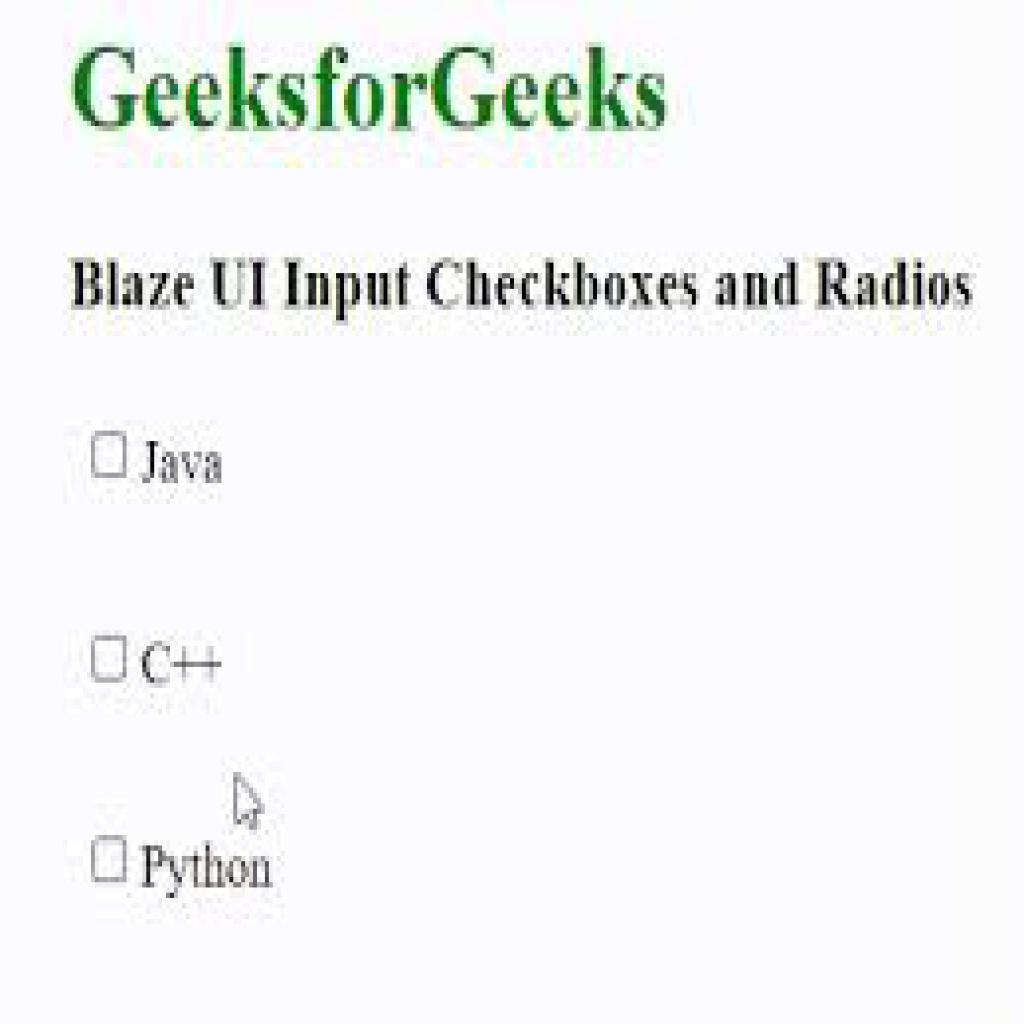checkbox: (93, 834, 129, 885), (93, 635, 130, 679), (90, 436, 125, 476)
